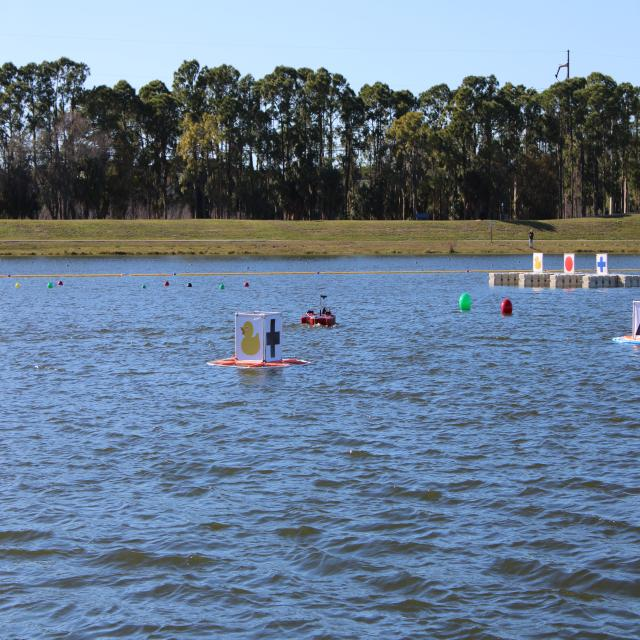blue-cross: (594, 250, 608, 276)
green-buoy: (459, 294, 472, 312), (47, 282, 52, 290)
red-buoy: (502, 296, 512, 316), (60, 280, 64, 286)
red-dot: (564, 253, 574, 274)
yellow-buoy: (14, 282, 20, 290)
yellow-duck: (236, 314, 264, 362), (532, 253, 542, 274)
